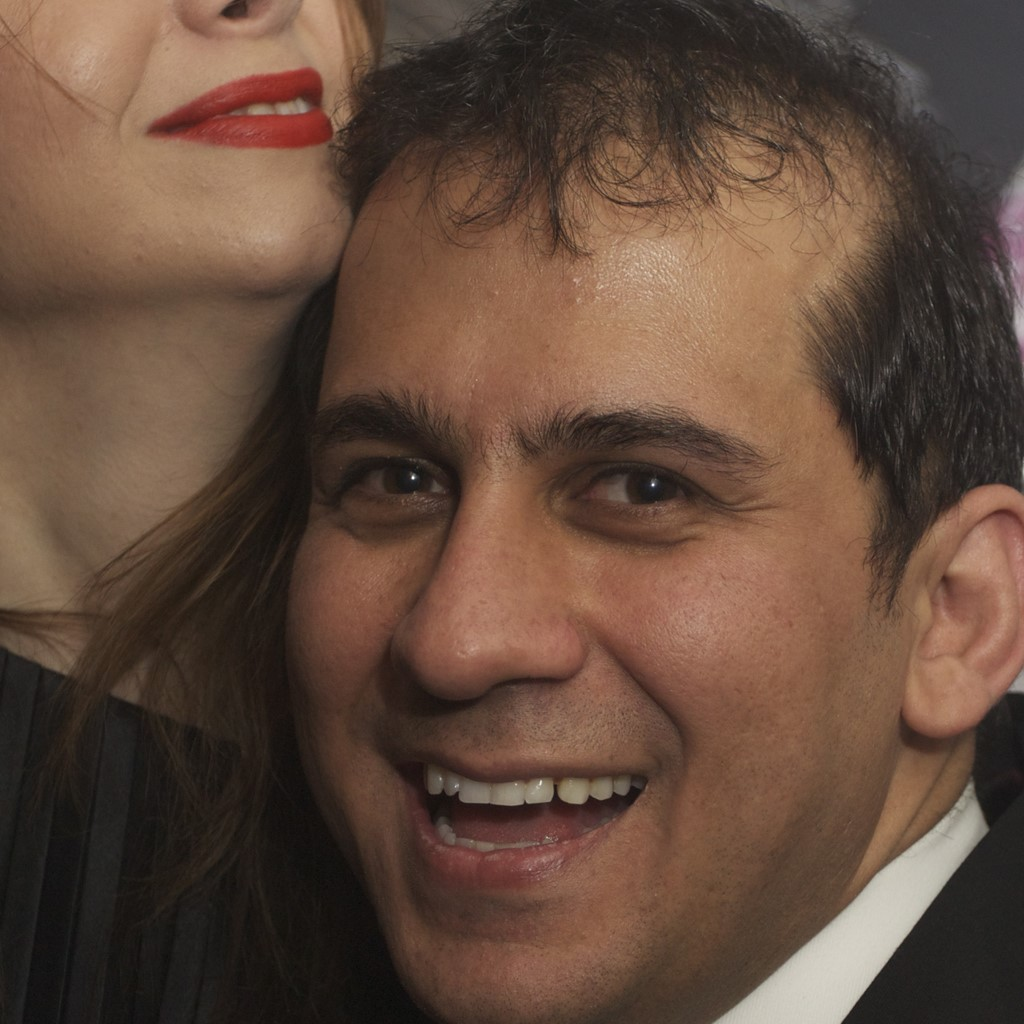sin_mascara: (306, 95, 932, 1008)
